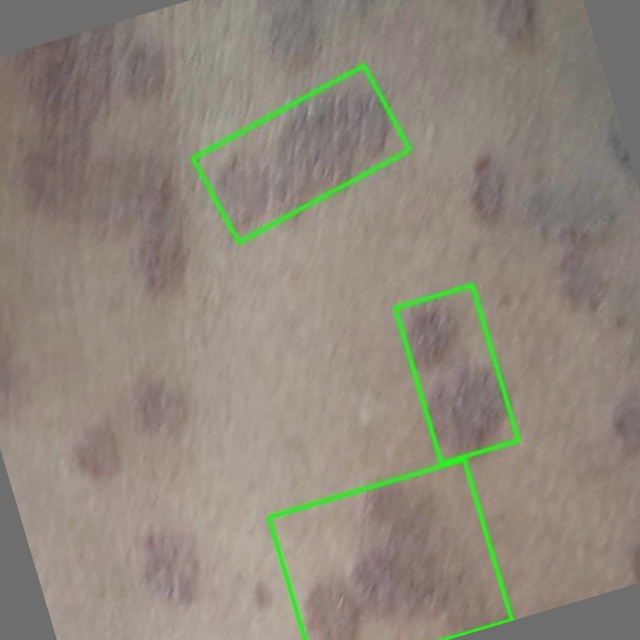Tinea Corporis: (268, 459, 511, 639), (192, 66, 409, 243), (395, 284, 518, 463)
